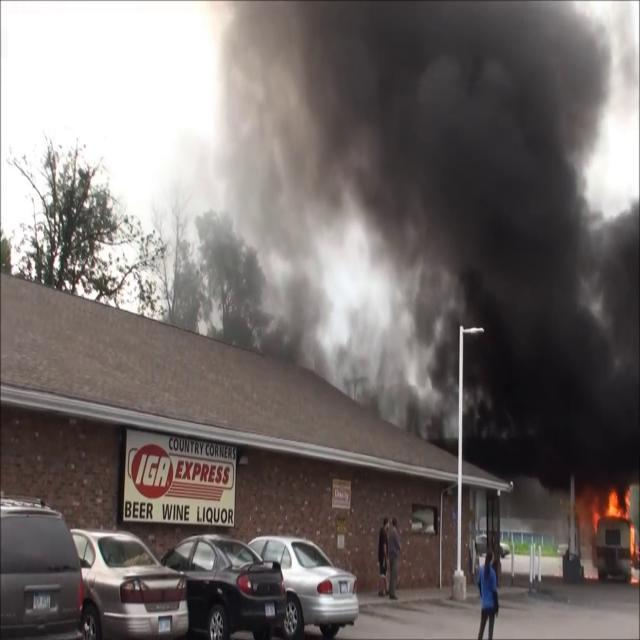Fire: (599, 479, 638, 549)
Smoke: (166, 1, 640, 420)
